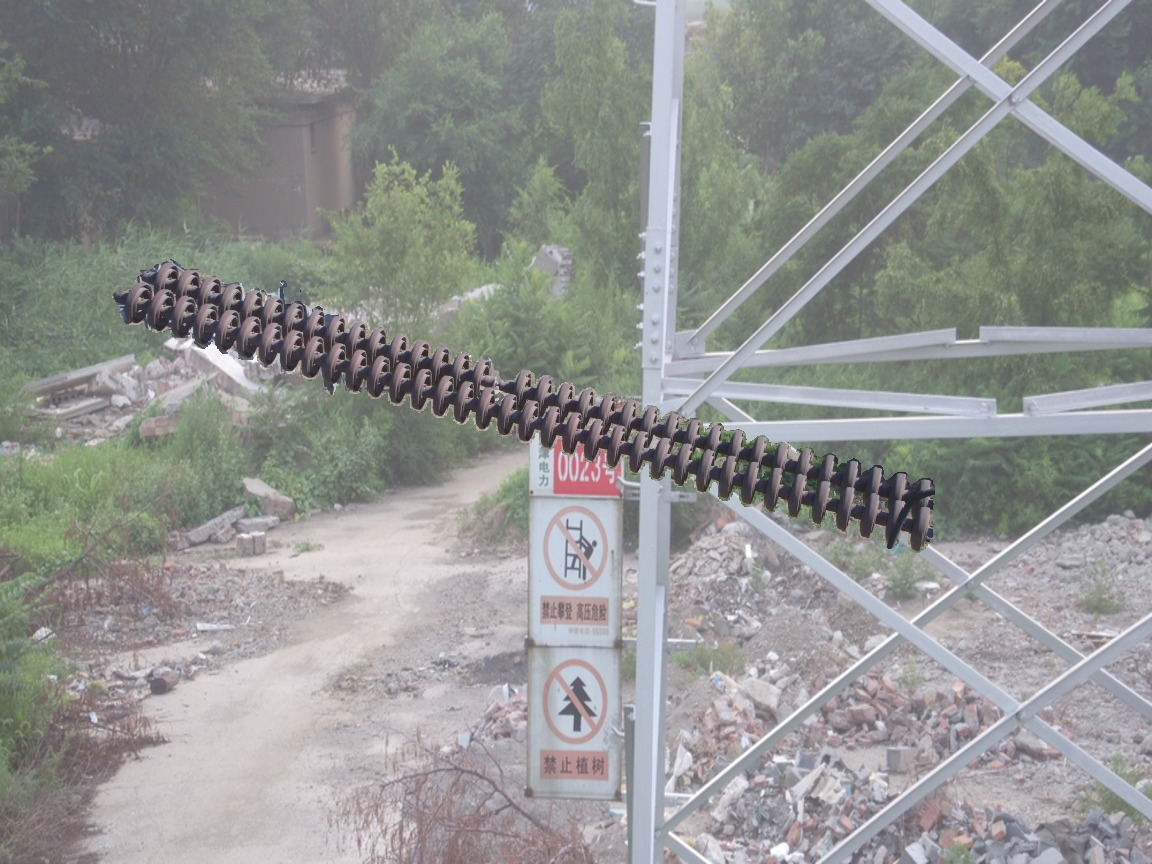defect: (468, 355, 539, 401)
